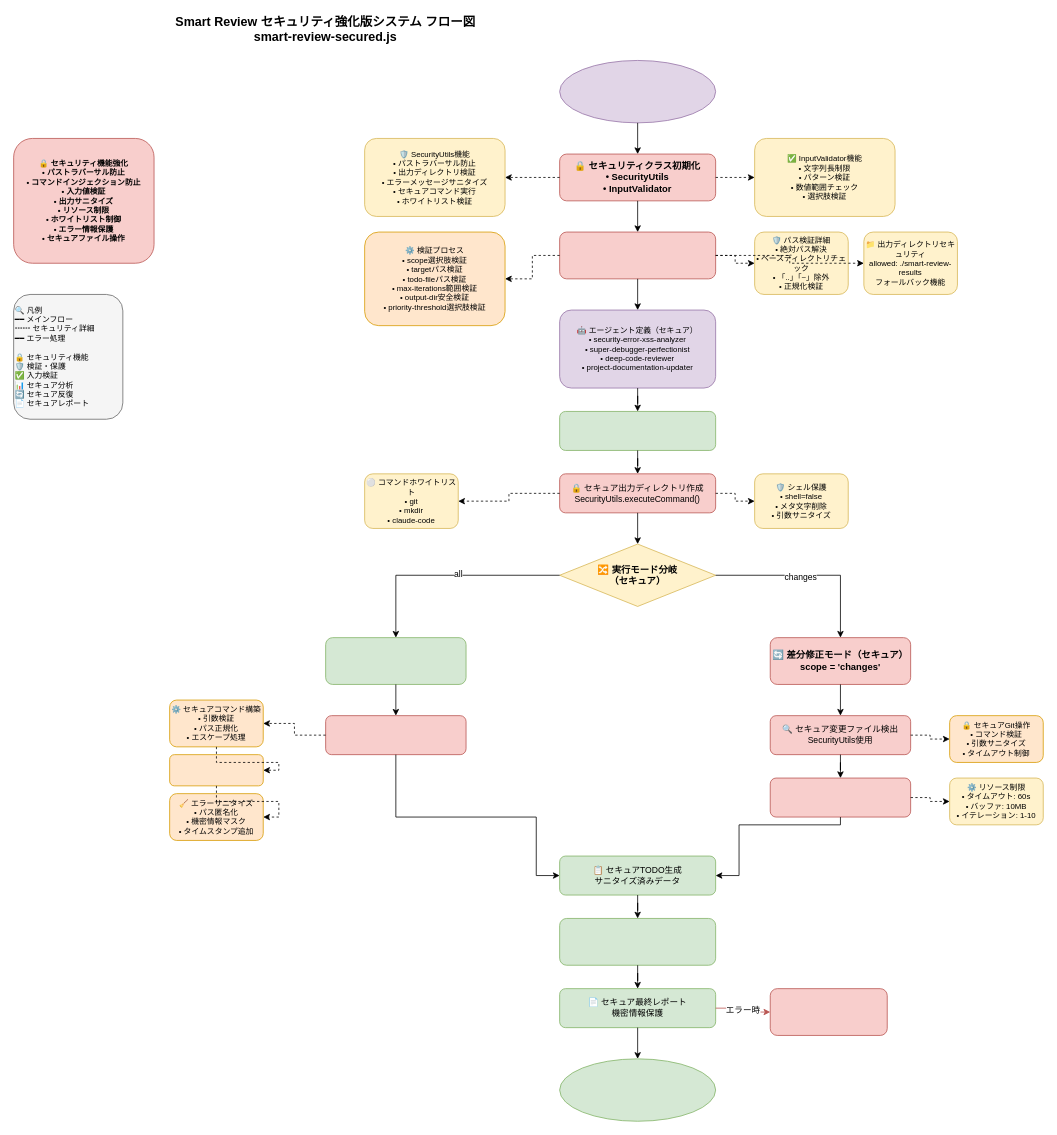
The diagram is 1057 pixels wide and 1135 high, and some of its shapes have lost their labels. Here are the shapes that lost their labels. From the top down, the centre of each, then its label:
[637,91]: 🚀 開始 Smart Review セキュア実行
[637,255]: 🔍 入力検証 validatedArgs構築
[637,430]: 📋 実行コンテキスト初期化 セキュア環境設定
[395,660]: 📊 全体分析モード（セキュア） scope = 'all'
[395,735]: 🛡️ セキュアエージェント実行 executeSecureAgent()
[216,770]: 🔒 セキュア実行 SecurityUtils.executeCommand()
[840,797]: 🔄 セキュア反復ループ 制限付きイテレーション
[637,941]: 💾 セキュアファイル操作 • パス検証 • 権限チェック • 安全な書き込み
[828,1011]: ❌ セキュアエラー処理 • エラーサニタイズ • ログ記録 • 安全な終了
[637,1089]: ✅ セキュア完了 Smart Review Secured 完了
